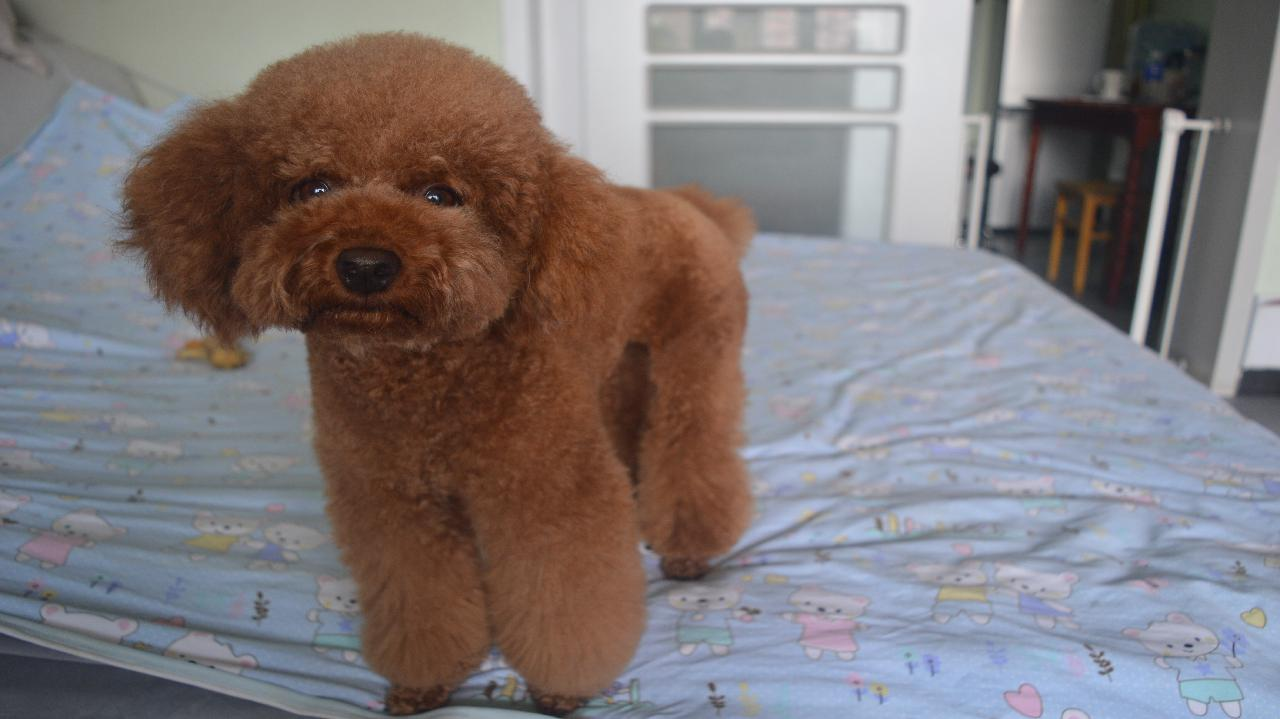zhuangzhuang: (136, 37, 791, 701)
